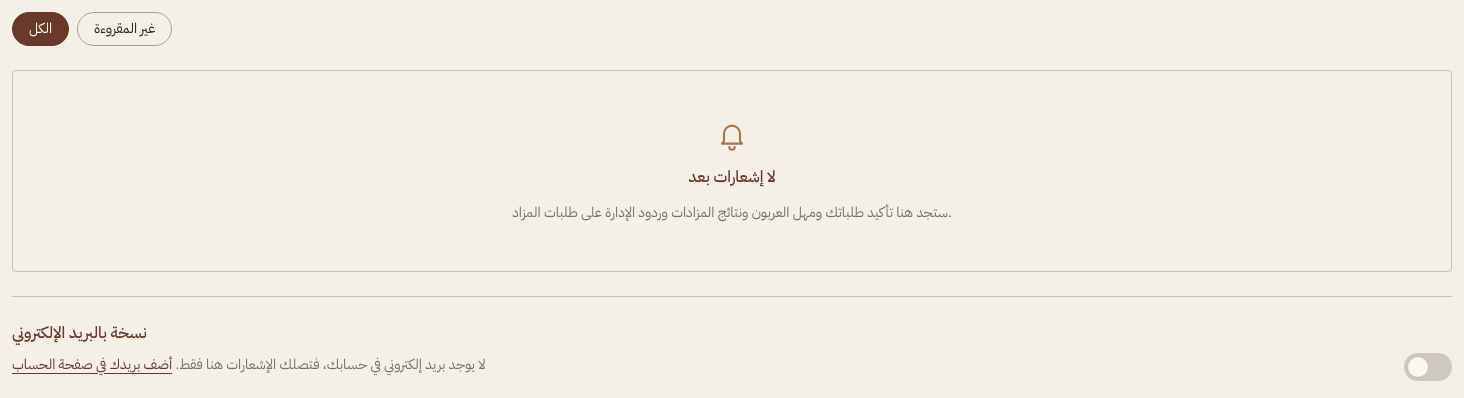
Test case: NotificationsCenter › explains the empty states and why e-mail is off
Expected: the text "لا إشعارات بعد" is shown, [688,163,776,191]
Step 1. Click the tab "غير المقروءة" → (125, 29), box [77,12,172,46]
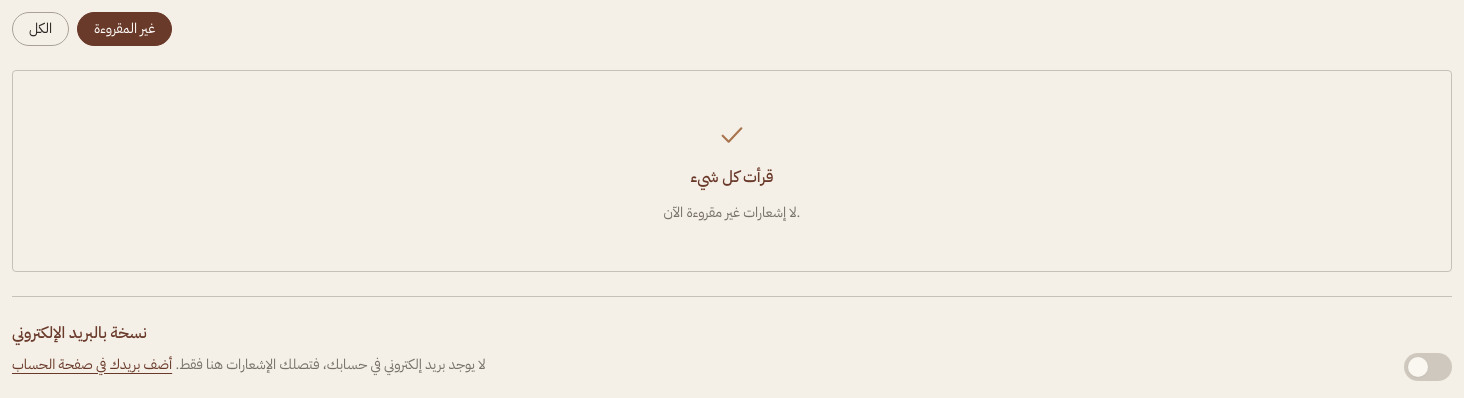
Expected: the switch named "نسخة بالبريد الإلكتروني" is disabled, [1404,353,1452,381]
Expected: the text "قرأت كل شيء" is shown, [691,163,773,191]
